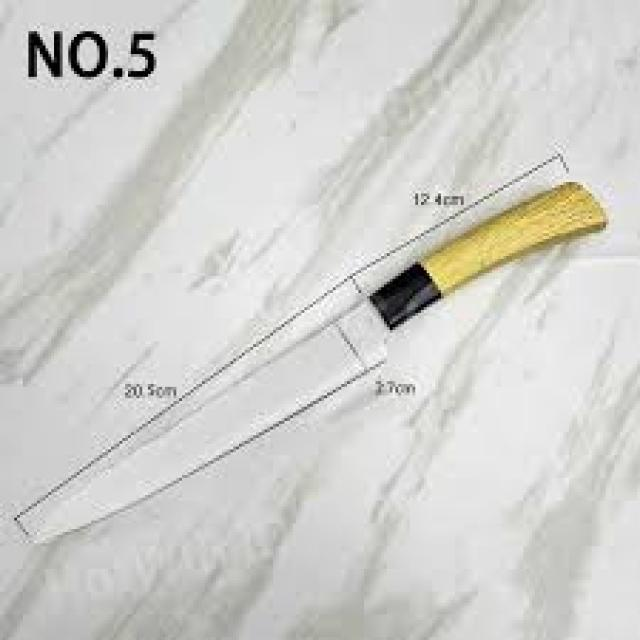Knife: (26, 182, 603, 540)
